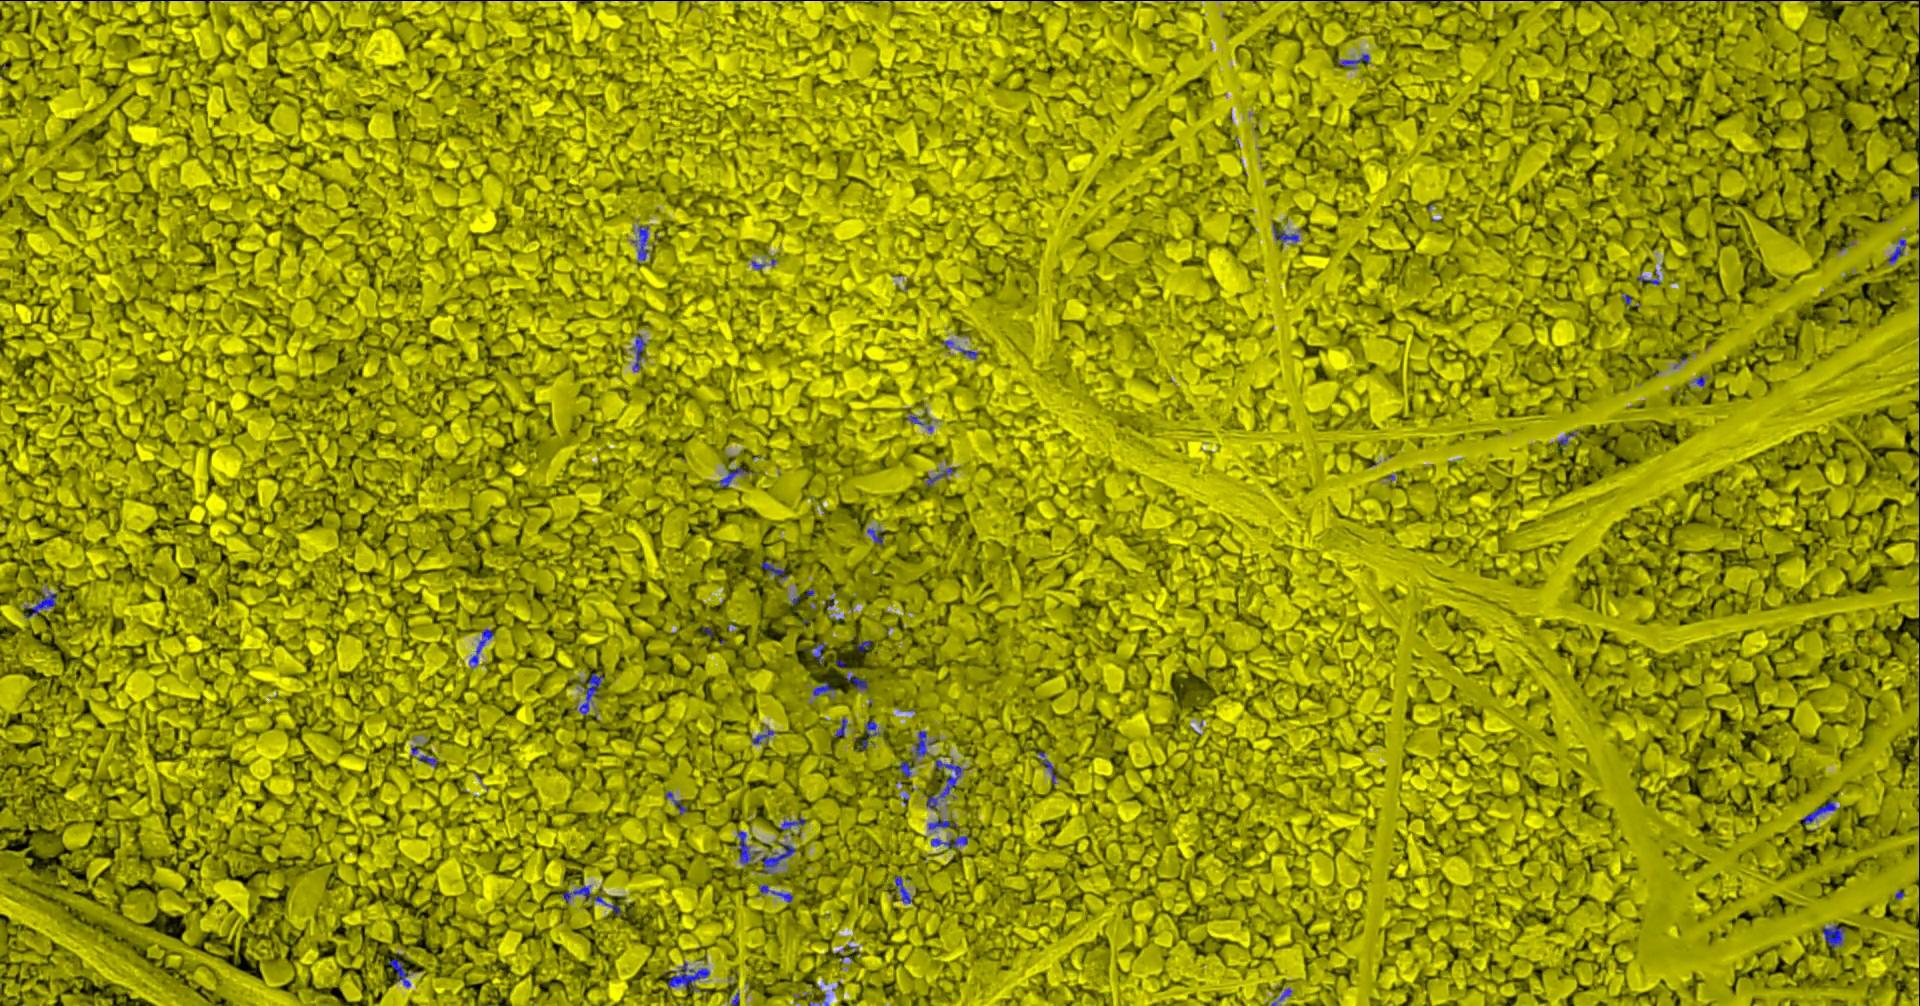ant: (575, 671, 604, 715), (667, 962, 709, 989), (759, 843, 795, 873), (935, 760, 963, 796), (469, 629, 493, 666), (23, 591, 56, 617), (1801, 800, 1835, 826), (715, 466, 754, 486), (737, 829, 759, 864), (855, 719, 879, 749), (758, 884, 792, 902), (631, 225, 648, 262), (1037, 751, 1057, 782), (389, 958, 410, 986), (593, 894, 621, 915), (930, 835, 968, 848), (893, 875, 912, 903), (1821, 925, 1844, 948), (561, 884, 590, 902), (1272, 222, 1298, 243), (926, 467, 952, 486), (631, 335, 645, 371), (759, 561, 787, 579), (665, 791, 687, 814), (1337, 53, 1369, 69), (914, 730, 933, 756), (1887, 239, 1905, 263), (750, 727, 775, 743), (811, 681, 834, 697), (778, 815, 805, 829), (927, 818, 956, 829), (811, 641, 825, 664), (844, 674, 867, 688), (897, 761, 914, 777), (866, 528, 884, 544), (418, 754, 437, 767), (834, 716, 846, 737), (926, 793, 937, 808), (857, 639, 870, 652)
